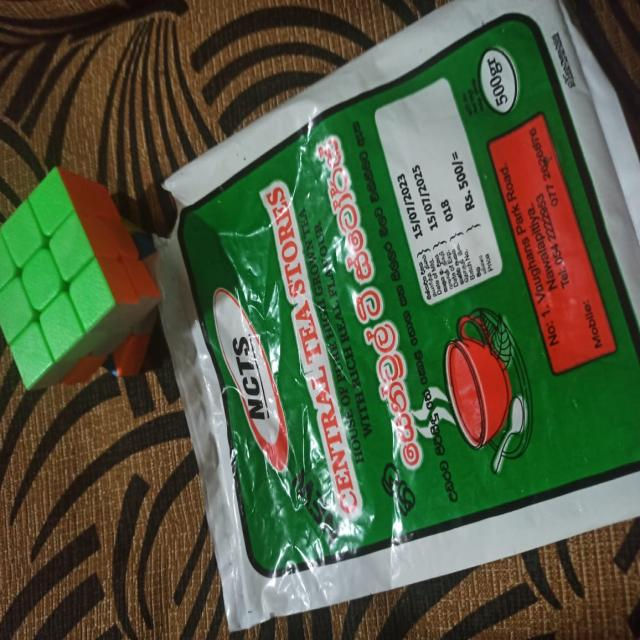Central Tea: (152, 110, 640, 542)
